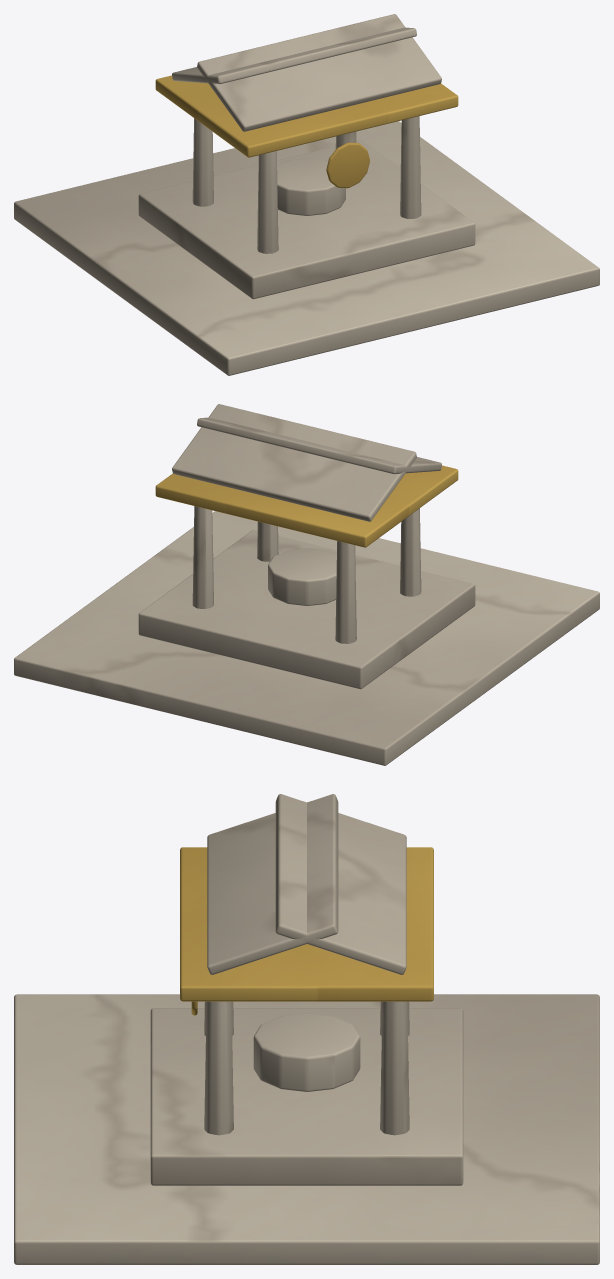
Rendered from building_church_offering_shrine.fbx.
The picture shows the model from 3 angles, top to bottom: view 1: azimuth 30°, elevation 25°; view 2: azimuth 150°, elevation 25°; view 3: azimuth 270°, elevation 25°; orthographic projection. The views are drawn at different scales.
Visible parts, largest first — view 1: building_church_offering_shrine; view 2: building_church_offering_shrine; view 3: building_church_offering_shrine.
Boxes of the visible parts, x1,y1,x2,y2 form: building_church_offering_shrine: [14, 14, 599, 375]; building_church_offering_shrine: [14, 404, 599, 765]; building_church_offering_shrine: [14, 794, 599, 1264].
Bounding box in the file's own units: 6 × 3.2 × 6.
